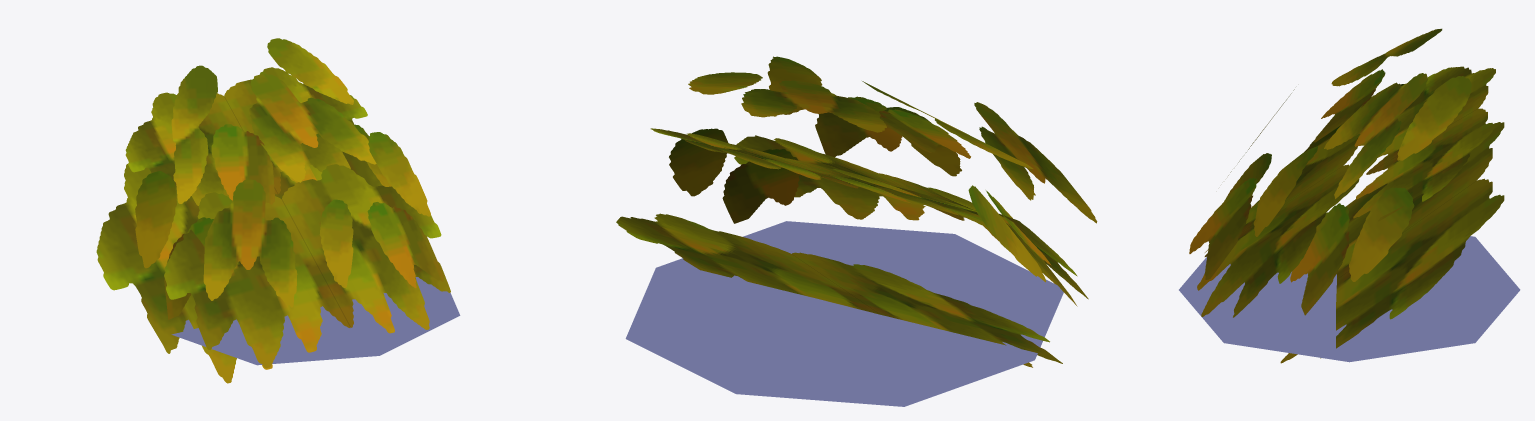
File: fg_bushE_2_s.fbx
3 views of the same model, side by side, from view 1: azimuth 30°, elevation 25°; view 2: azimuth 150°, elevation 25°; view 3: azimuth 270°, elevation 25° (orthographic). The views are drawn at different scales.
Parts seen in each view (by area): view 1: fg_bushE_2_s, sdw_circle; view 2: fg_bushE_2_s, sdw_circle; view 3: fg_bushE_2_s, sdw_circle.
Part boxes in pixels (bbox=[...]): fg_bushE_2_s: bbox=[96, 38, 450, 383]; sdw_circle: bbox=[171, 277, 460, 365]; fg_bushE_2_s: bbox=[616, 56, 1097, 367]; sdw_circle: bbox=[625, 221, 1063, 406]; fg_bushE_2_s: bbox=[1189, 28, 1504, 363]; sdw_circle: bbox=[1179, 236, 1520, 362].
Size of the model in its own units: 0.1589 by 0.1103 by 0.1198.
